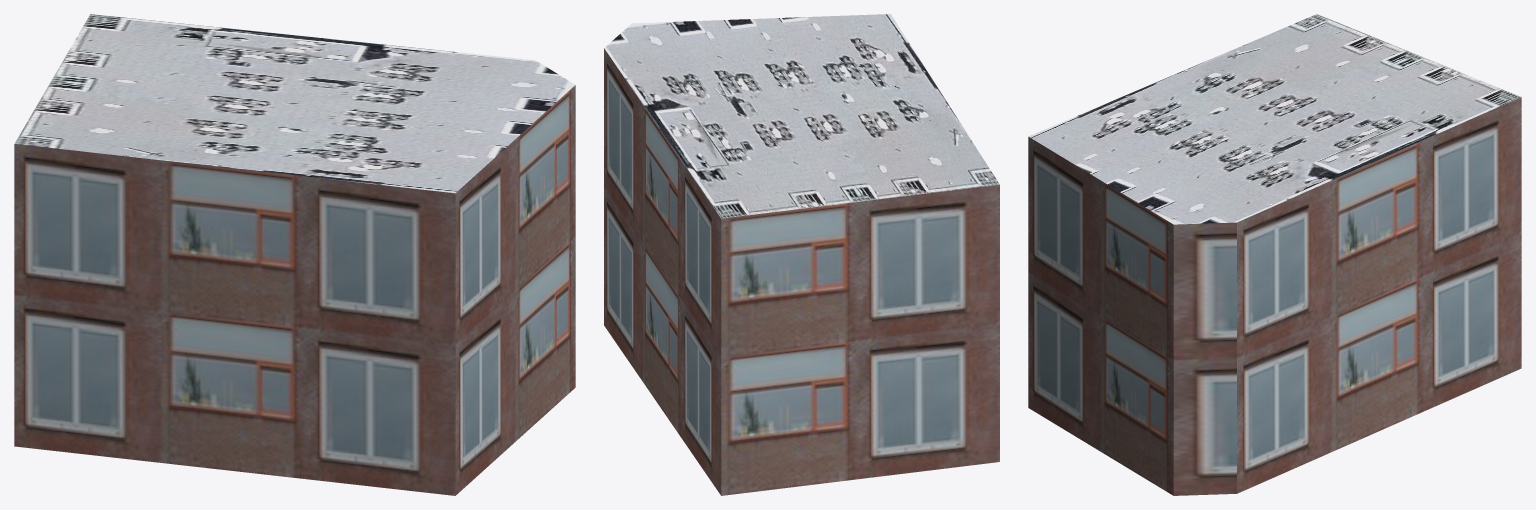
File: ResTex__1790.fbx
The picture shows the model from 3 angles, left to right: view 1: azimuth 30°, elevation 25°; view 2: azimuth 150°, elevation 25°; view 3: azimuth 270°, elevation 25°; orthographic projection. The views are drawn at different scales.
Visible parts, largest first — view 1: CityEngineMaterial_19_m, CityEngineMaterial_15_m; view 2: CityEngineMaterial_19_m, CityEngineMaterial_15_m; view 3: CityEngineMaterial_19_m, CityEngineMaterial_15_m.
Boxes of the visible parts, x1,y1,x2,y2 form: CityEngineMaterial_19_m: [14, 85, 575, 495]; CityEngineMaterial_15_m: [14, 14, 575, 193]; CityEngineMaterial_19_m: [604, 48, 999, 495]; CityEngineMaterial_15_m: [604, 14, 999, 218]; CityEngineMaterial_19_m: [1028, 97, 1521, 495]; CityEngineMaterial_15_m: [1028, 14, 1521, 224].
Bounding box in the file's own units: 9.99 × 6 × 9.88.
Materials: 2 (2 with a texture image).
